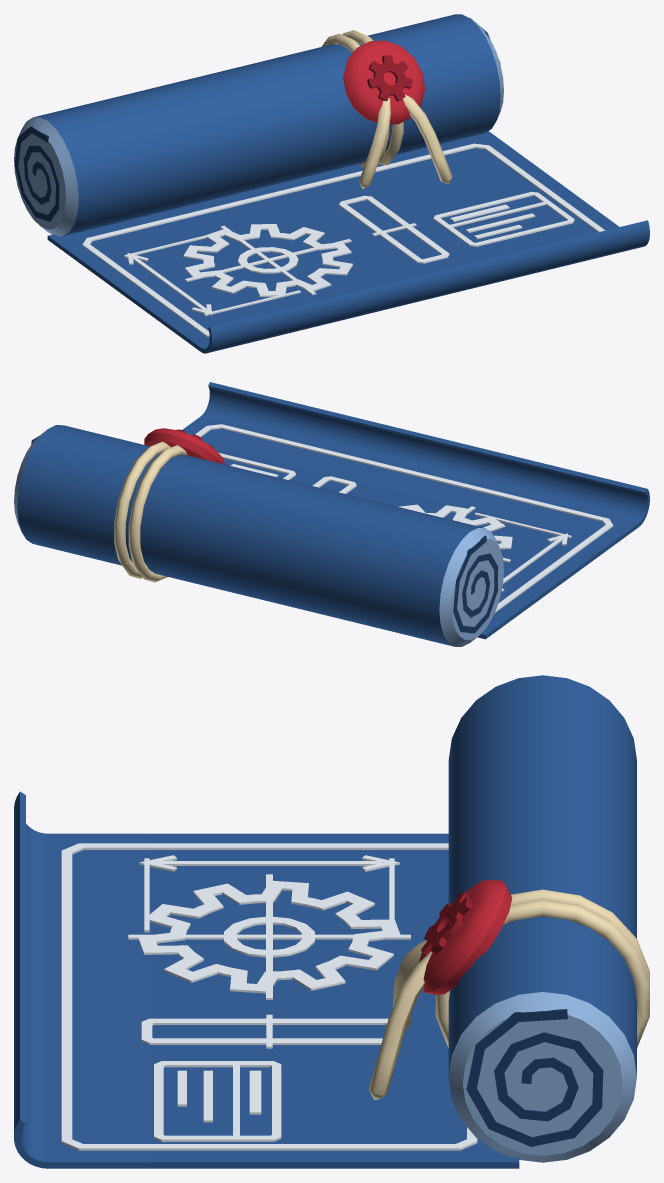
The model's file is item_schematic.glb.
The picture shows the model from 3 angles, top to bottom: view 1: azimuth 30°, elevation 25°; view 2: azimuth 150°, elevation 25°; view 3: azimuth 270°, elevation 25°; orthographic projection. The views are drawn at different scales.
Visible parts, largest first — view 1: Schematic; view 2: Schematic; view 3: Schematic.
Part boxes in pixels (x1,y1,x2,y2): Schematic: (14,14,649,353); Schematic: (14,382,649,646); Schematic: (14,675,649,1168).
Bounding box in the file's own units: 0.3308 × 0.0964 × 0.27.
